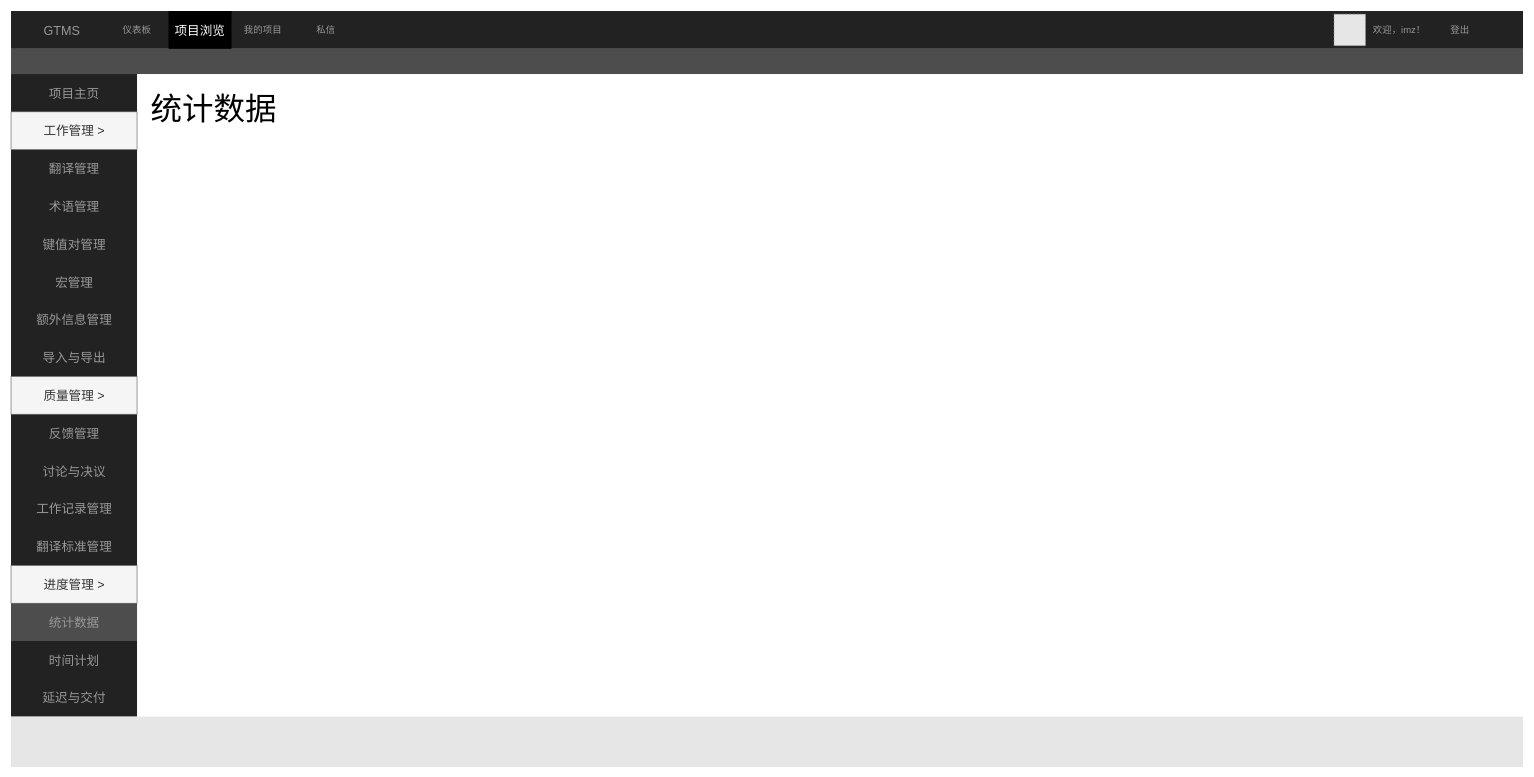
Image size: 1534x777. Some labels were removed from this diagram. Grey dashed boxes stand in for pictures. The shapes that lost their labels are listed below. From the top down, each one's centre as x and y in pixels, then its label:
At pixel 767 61: "示例中文化项目01 / 统计数据".
At pixel 767 741: "Yifan Xu 毕业设计 @天津工业大学".
